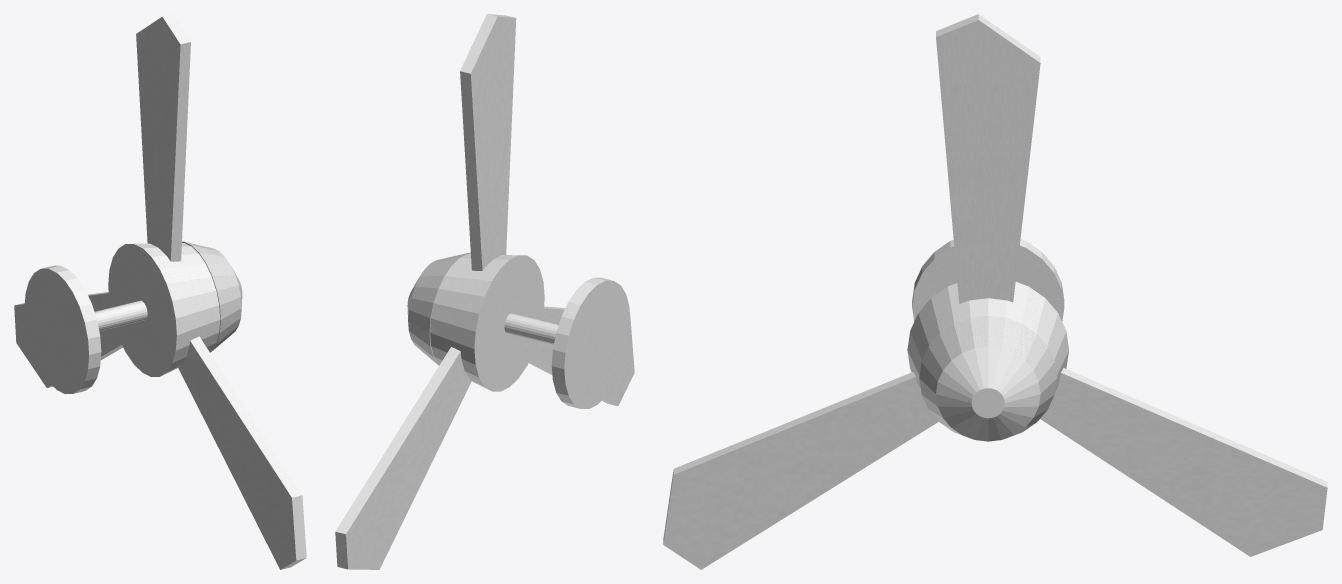
File: modernceilingfan.obj
3 renders of one model, left to right at view 1: azimuth 30°, elevation 25°; view 2: azimuth 150°, elevation 25°; view 3: azimuth 270°, elevation 25°, orthographic. The views are drawn at different scales.
Visible parts, largest first — view 1: Rotor, Metal, Base, Trim; view 2: Rotor, Metal, Base, Trim; view 3: Rotor, Light0, Trim, Metal, Base.
Boxes of the visible parts, x1,y1,x2,y2 form: Rotor: (14, 14, 306, 569); Metal: (94, 243, 220, 376); Base: (24, 265, 101, 394); Trim: (182, 241, 241, 352); Rotor: (335, 14, 634, 569); Metal: (430, 254, 558, 391); Base: (551, 277, 630, 408); Trim: (408, 253, 470, 365); Rotor: (663, 14, 1327, 569); Light0: (936, 346, 1040, 441); Trim: (919, 315, 1057, 438); Metal: (907, 282, 1068, 390); Base: (912, 239, 1064, 321).
Bounding box in the file's own units: 0.51 × 1.28 × 1.4.
